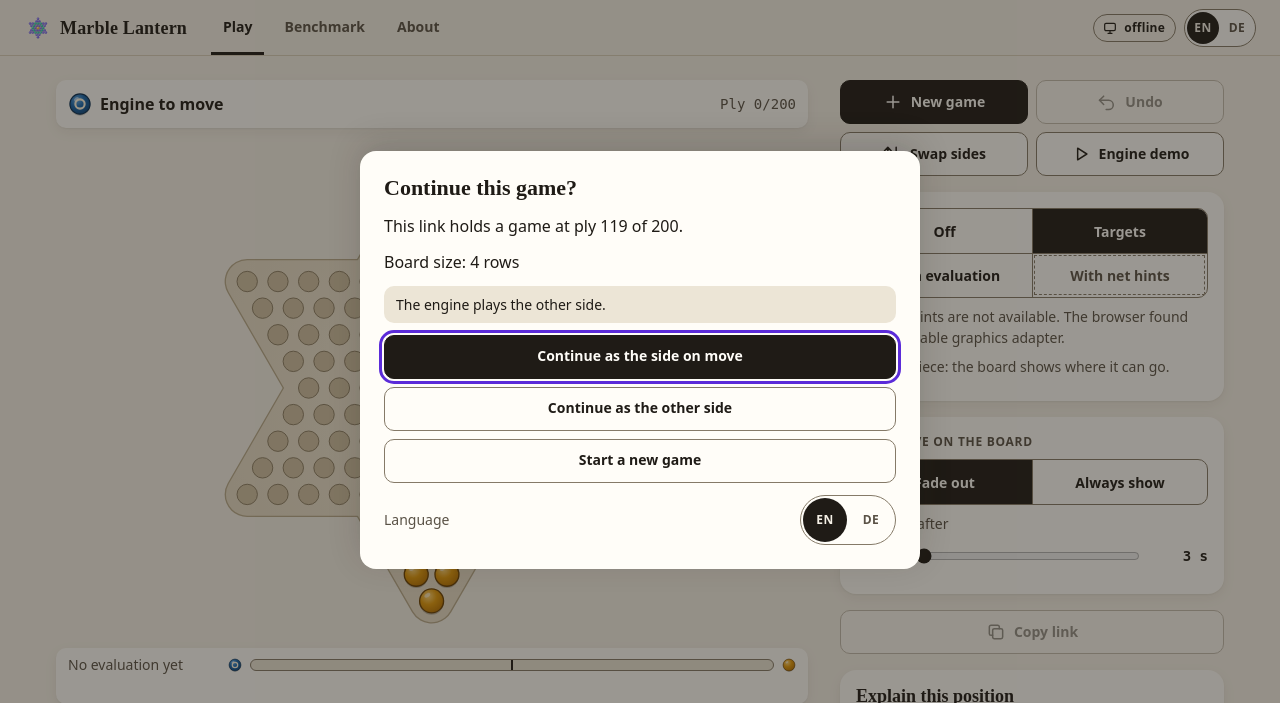
the card "Explain this position" › a finished game: disabled with the over reason
Click the button "Continue as the side on move" at (640, 357), box [384,335,896,379]
(page scrolled)
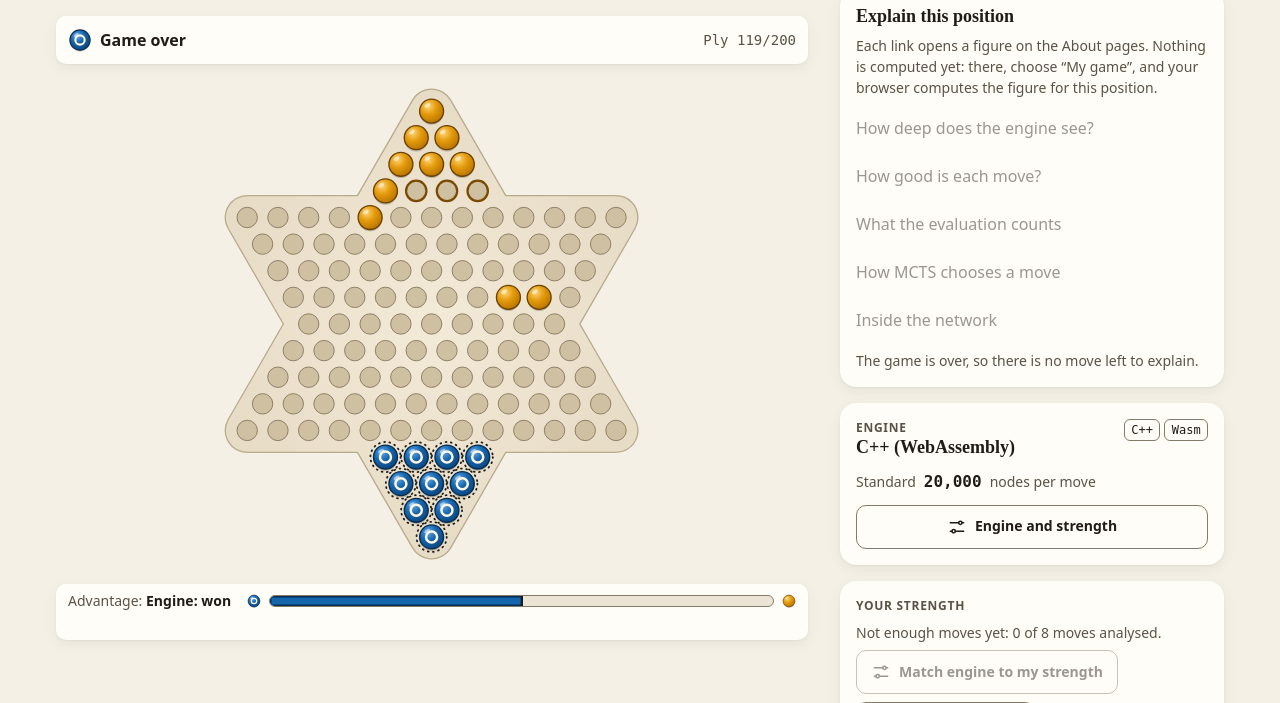
Check: the text "The game is over, so there is no move left to explain." is shown, box [856,350,1208,371]
